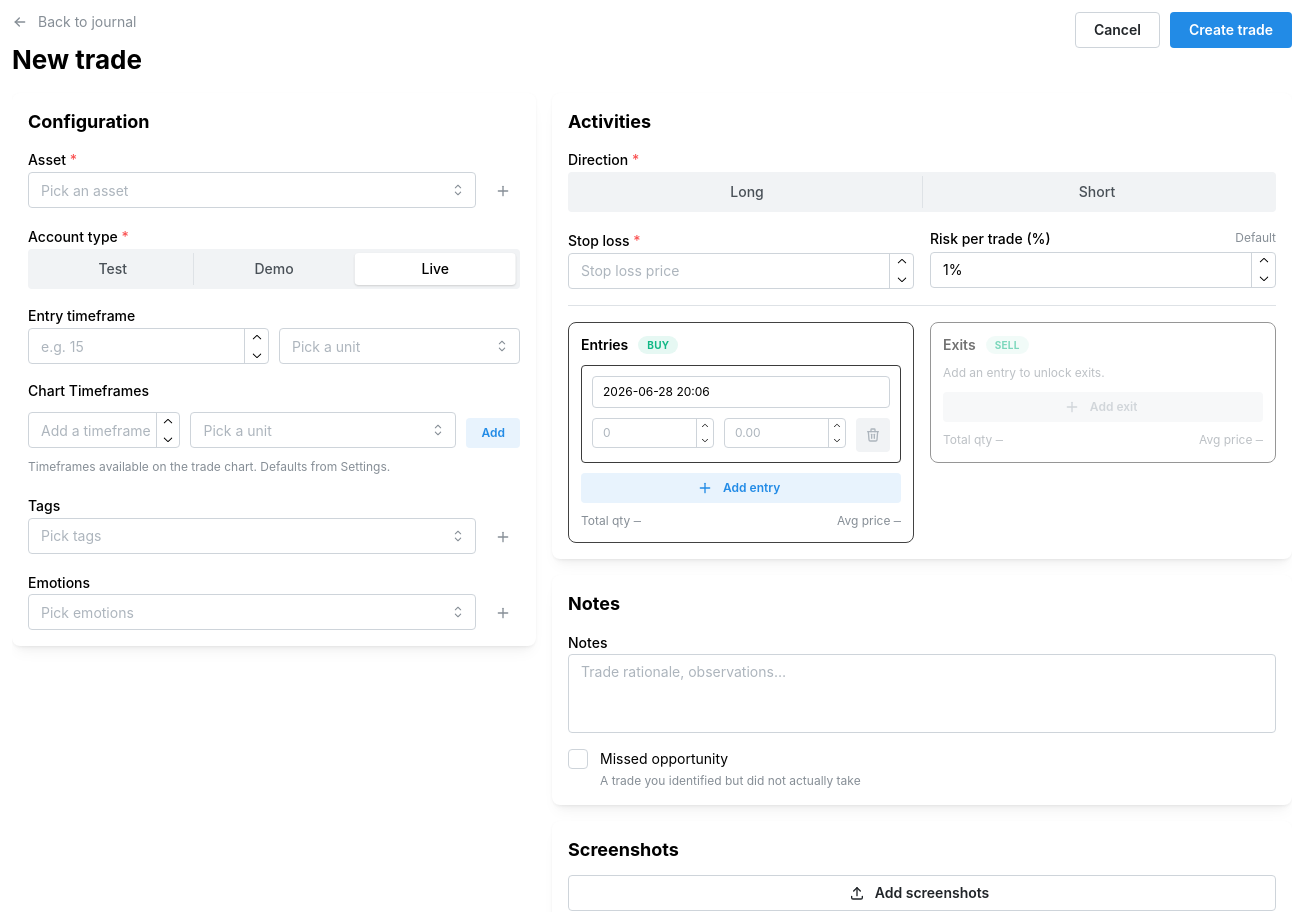
TradeFormPage — default risk per trade (#62) › saves a new default via PATCH and confirms with "Saved!"
Expected: the heading "New trade" is shown, [12,42,142,77]
Replace the text in the field named "Risk per trade (%)" with "2" at x=1103, y=270, box [930,252,1276,288]
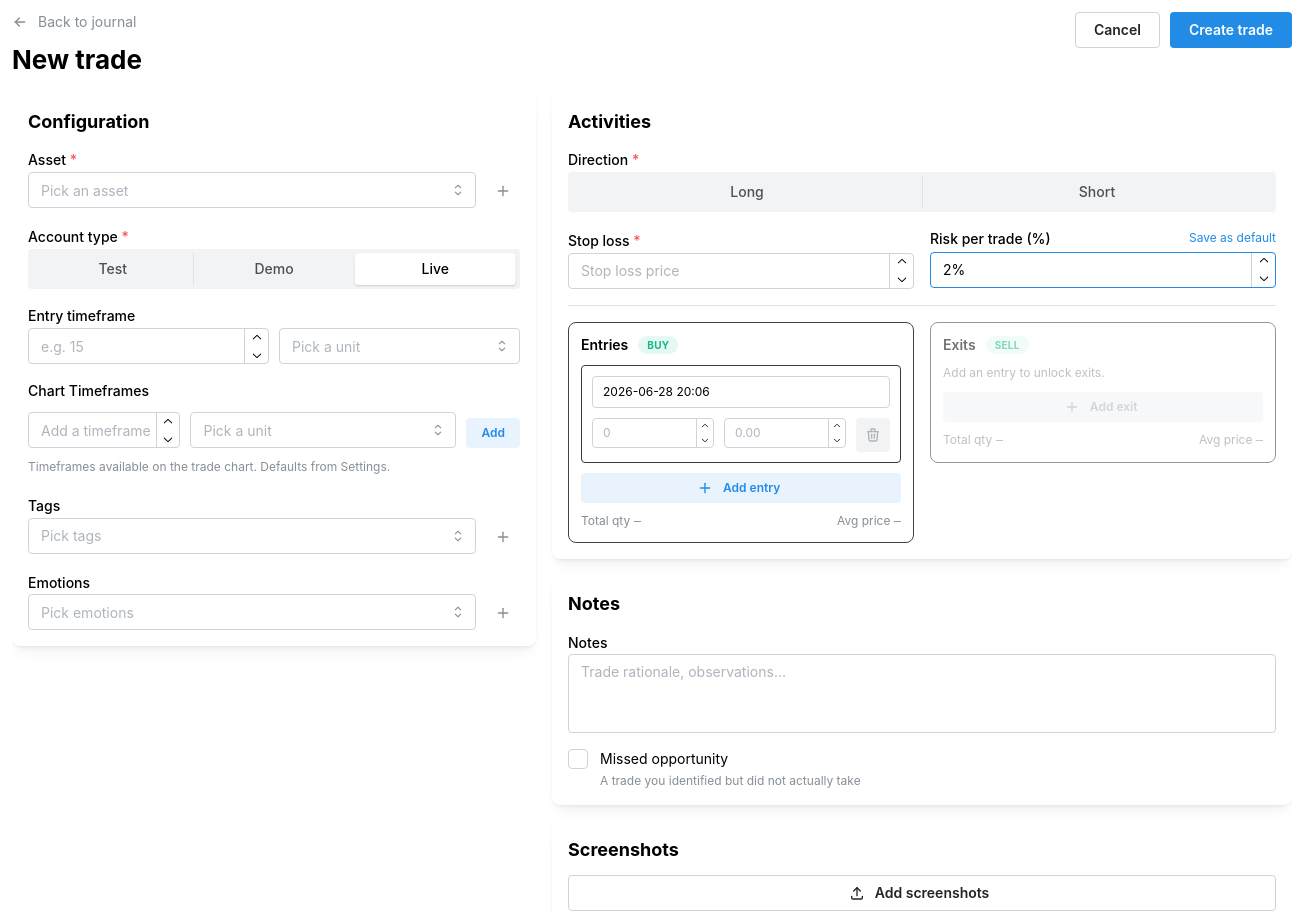
// The value now differs from the stored default → the link appears.
Click the button "Save as default" at x=1232, y=239, box [1189,230,1276,247]
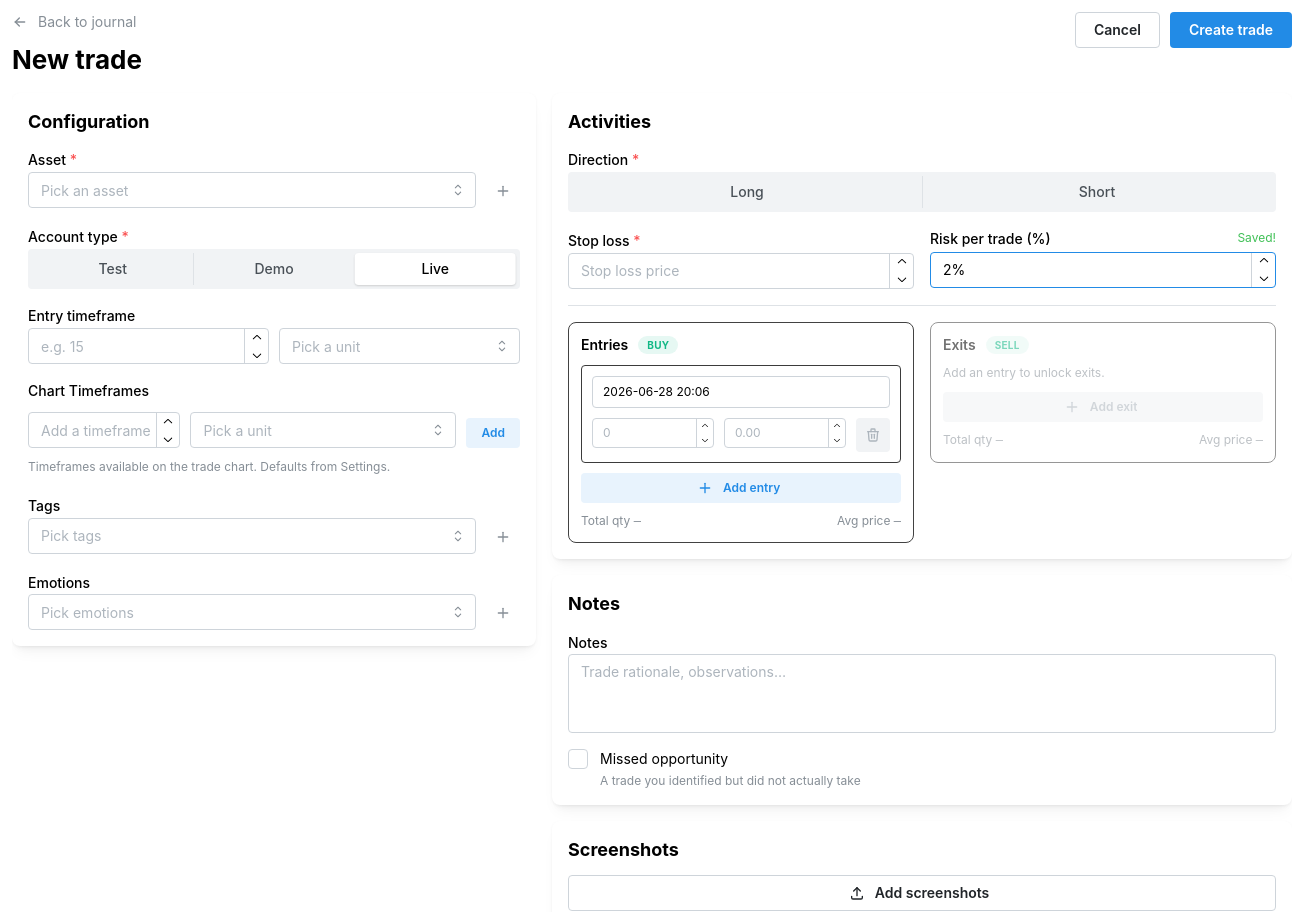
Now the text "Saved!" is shown, box [1237,230,1276,247]
Now the button "Save as default" is gone
